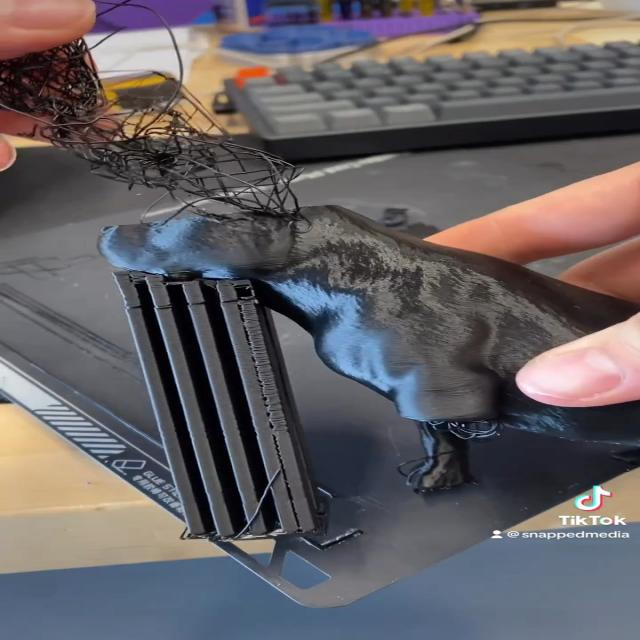spaghetti: (0, 31, 338, 228)
